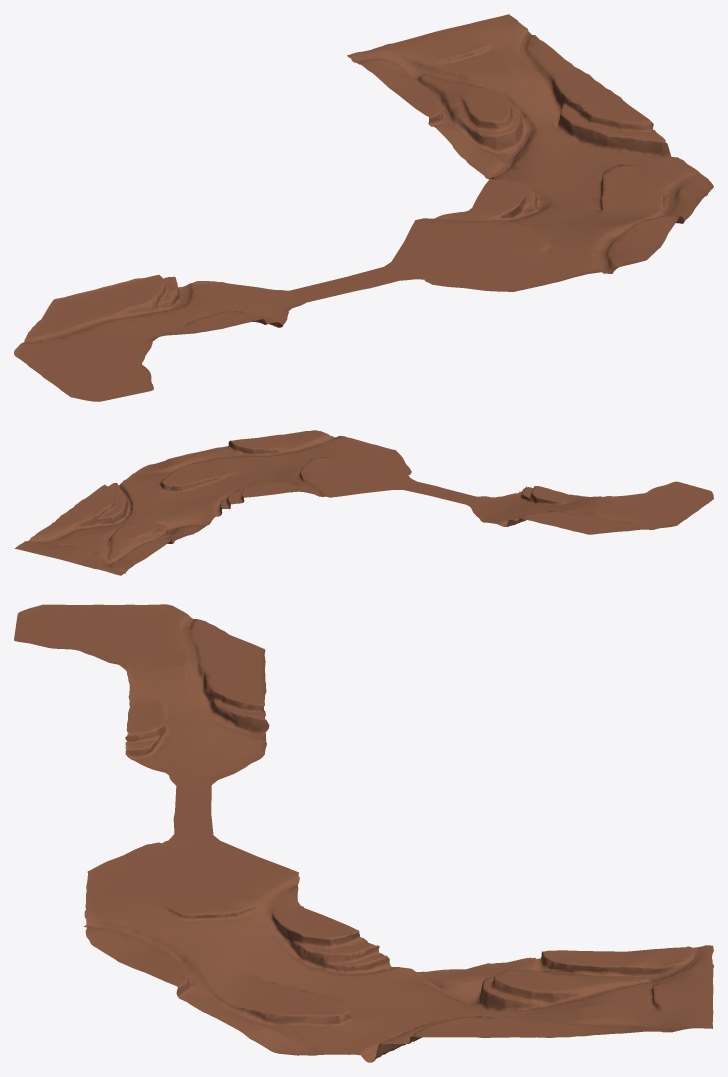
Rendered from M_Map_02_Terrain.FBX.
3 views of the same model, one above another, from view 1: azimuth 30°, elevation 25°; view 2: azimuth 150°, elevation 25°; view 3: azimuth 270°, elevation 25° (orthographic). The views are drawn at different scales.
Visible parts, largest first — view 1: Terrain_Part08, Terrain_Part07, Terrain_Part01, Terrain_Part05, Terrain_Part03, Terrain_Part06, Terrain_Part02, Terrain_Part14, Terrain_Part03_b, Terrain_Part13, Terrain_Part04_b, Terrain_Part04 (+12 smaller); view 2: Terrain_Part08, Terrain_Part05, Terrain_Part07, Terrain_Part06, Terrain_Part04, Terrain_Part14, Terrain_Part02, Terrain_Part13, Terrain_Part01, Terrain_Part03_b, Terrain_Part07_b, Terrain_Part11 (+12 smaller); view 3: Terrain_Part07, Terrain_Part08, Terrain_Part05, Terrain_Part06, Terrain_Part01, Terrain_Part11, Terrain_Part02, Terrain_Part14, Terrain_Part13, Terrain_Part06_b, Terrain_Part03, Terrain_Part04 (+12 smaller).
Part boxes in pixels (box(x1,y1,x2,y2)): Terrain_Part08: box(384, 212, 553, 291); Terrain_Part07: box(454, 208, 621, 283); Terrain_Part01: box(347, 14, 528, 82); Terrain_Part05: box(513, 155, 699, 206); Terrain_Part03: box(446, 90, 565, 156); Terrain_Part06: box(472, 179, 668, 231); Terrain_Part02: box(420, 53, 551, 118); Terrain_Part14: box(14, 337, 150, 383); Terrain_Part03_b: box(423, 73, 627, 163); Terrain_Part13: box(26, 294, 152, 349); Terrain_Part04_b: box(468, 102, 665, 179); Terrain_Part04: box(489, 134, 640, 179); Terrain_Part08: box(306, 444, 416, 497); Terrain_Part05: box(120, 461, 224, 515); Terrain_Part07: box(261, 435, 373, 492); Terrain_Part06: box(202, 456, 289, 497); Terrain_Part04: box(127, 492, 217, 529); Terrain_Part14: box(620, 491, 701, 529); Terrain_Part02: box(51, 528, 149, 560); Terrain_Part13: box(573, 496, 647, 534); Terrain_Part01: box(14, 540, 125, 575); Terrain_Part03_b: box(60, 496, 196, 543); Terrain_Part07_b: box(254, 430, 333, 456); Terrain_Part11: box(493, 486, 576, 526); Terrain_Part07: box(84, 886, 303, 966); Terrain_Part08: box(86, 834, 299, 897); Terrain_Part05: box(242, 969, 392, 1055); Terrain_Part06: box(189, 908, 359, 1014); Terrain_Part01: box(632, 945, 713, 1032); Terrain_Part11: box(125, 698, 266, 750); Terrain_Part02: box(547, 969, 645, 1026); Terrain_Part14: box(71, 604, 197, 662); Terrain_Part13: box(109, 619, 265, 666); Terrain_Part06_b: box(146, 923, 367, 1018); Terrain_Part03: box(456, 970, 559, 1021); Terrain_Part04: box(374, 967, 467, 1041).
Size of the model in its own units: 674 by 52.35 by 504.
